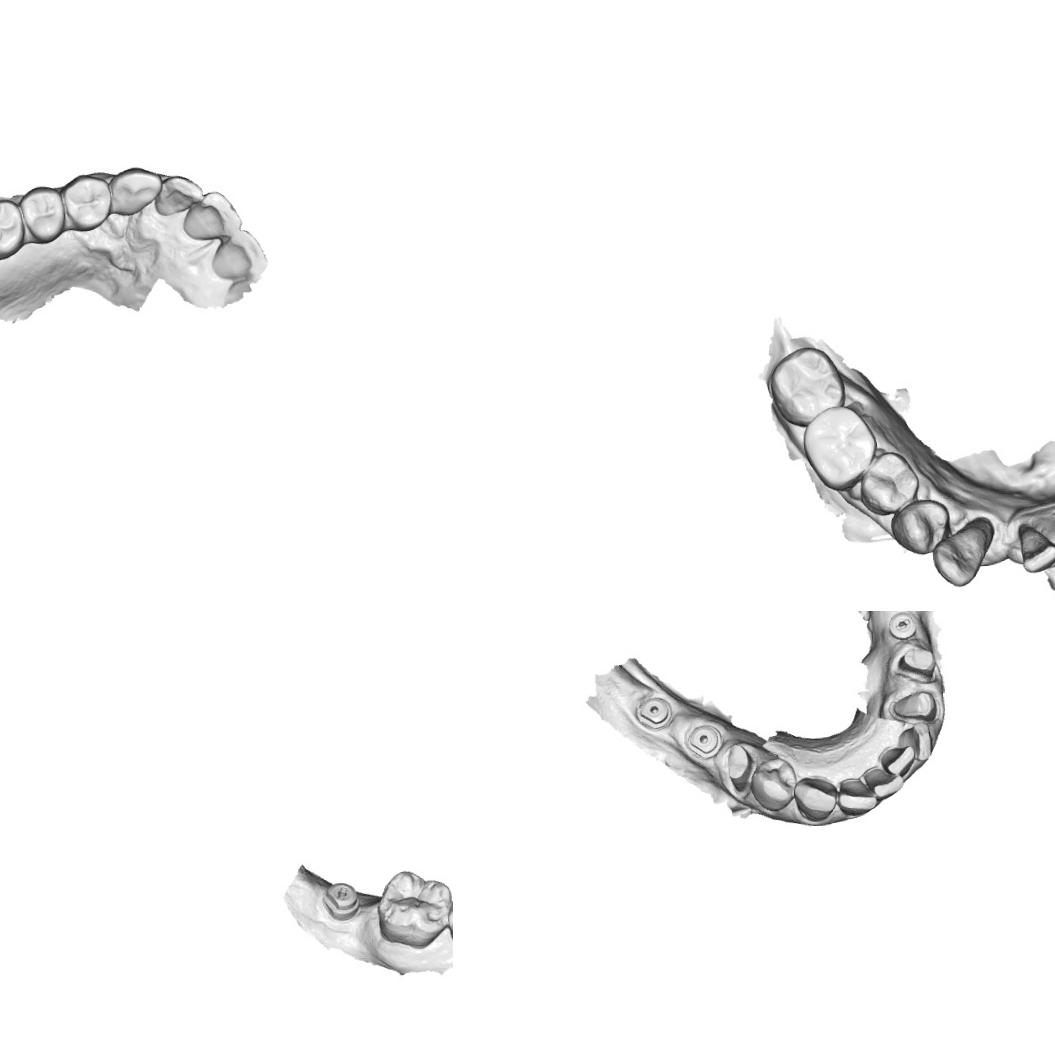canine: (932, 518, 994, 589), (106, 164, 164, 216), (791, 774, 839, 824)
crown: (721, 740, 755, 795), (888, 687, 939, 723), (895, 643, 938, 679)
implant: (682, 722, 724, 759), (635, 692, 674, 730)
implant_minus: (319, 879, 361, 922), (885, 611, 920, 641)
incisor: (207, 226, 271, 282), (179, 187, 244, 242), (153, 172, 205, 218), (1015, 521, 1055, 571), (834, 774, 879, 816), (894, 720, 934, 764), (862, 764, 904, 800), (878, 744, 918, 779)
molar: (800, 404, 879, 494), (765, 342, 848, 426), (373, 866, 453, 950), (0, 197, 26, 262)
premolar: (888, 495, 948, 557), (864, 452, 920, 511), (60, 172, 113, 234), (747, 753, 800, 814), (17, 184, 67, 244)
